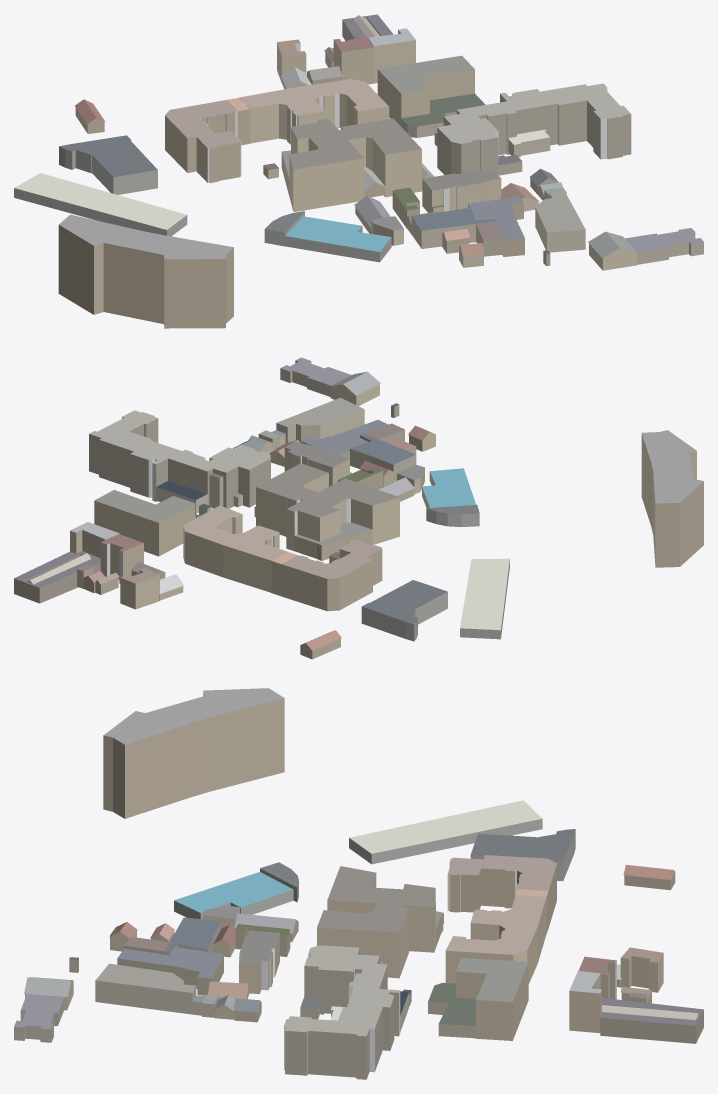
3 renders of one model, top to bottom at view 1: azimuth 30°, elevation 25°; view 2: azimuth 150°, elevation 25°; view 3: azimuth 270°, elevation 25°, orthographic. The views are drawn at different scales.
Parts seen in each view (by area): view 1: tuile; view 2: tuile; view 3: tuile.
Boxes of the visible parts, x1,y1,x2,y2 form: tuile: (14,14,703,328); tuile: (14,357,703,659); tuile: (14,688,703,1079).
Bounding box in the file's own units: 293 × 38.1 × 276.
